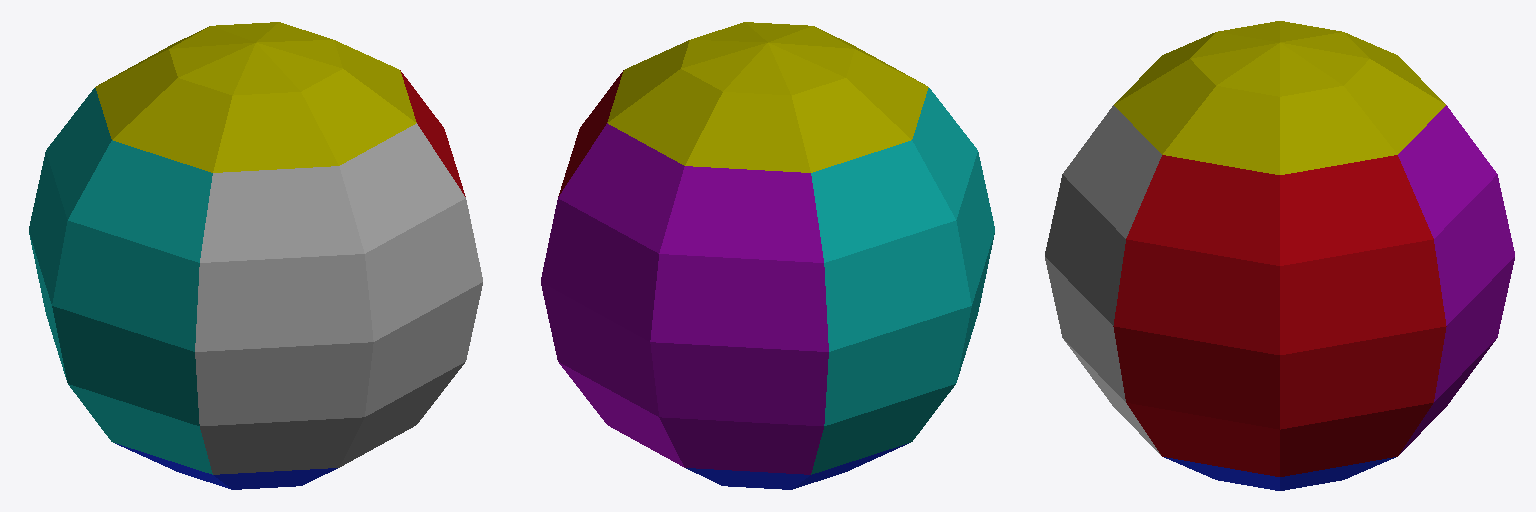
Rendered from spher.obj.
The picture shows the model from 3 angles: view 1: azimuth 30°, elevation 25°; view 2: azimuth 150°, elevation 25°; view 3: azimuth 270°, elevation 25°; orthographic projection.
Visible parts, largest first — view 1: Sphere; view 2: Sphere; view 3: Sphere.
Boxes of the visible parts, box(x1,y1,x2,y2) form: Sphere: box(29, 22, 482, 489); Sphere: box(541, 22, 994, 489); Sphere: box(1045, 21, 1514, 490).
Bounding box in the file's own units: 10 × 10 × 10.